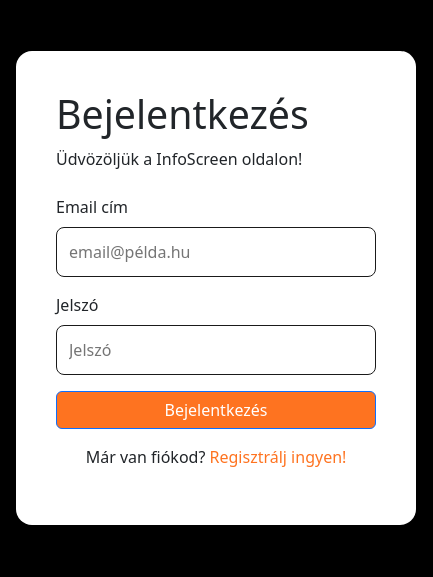
Test: LoginPage › hibaüzenetet mutat rövid jelszó esetén
Type "123" into the password field named "password" at (216, 350), box [56, 325, 376, 375]
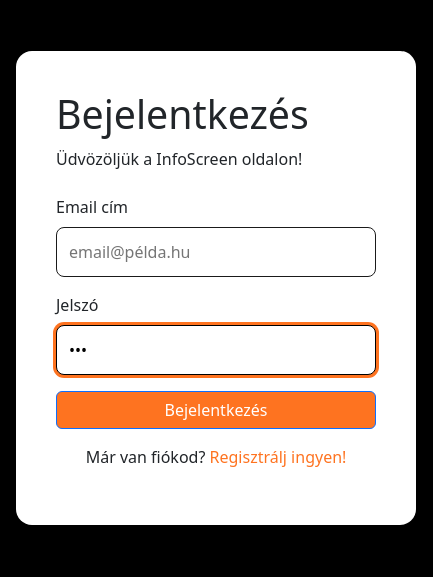
Click the button "Bejelentkezés" at (216, 410), box [56, 391, 376, 429]
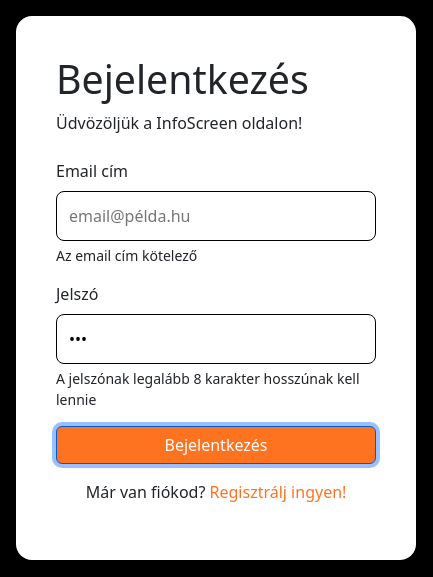
Check: the text "A jelszónak legalább 8 karakter hosszúnak kell lennie" is shown, box [56, 368, 376, 410]
